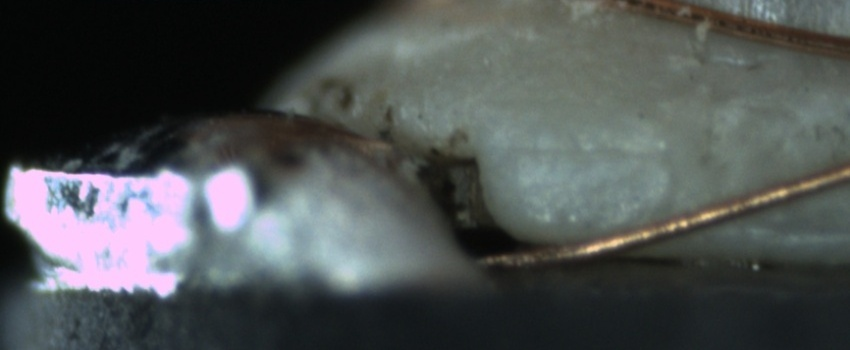DL: (500, 121, 663, 181)
